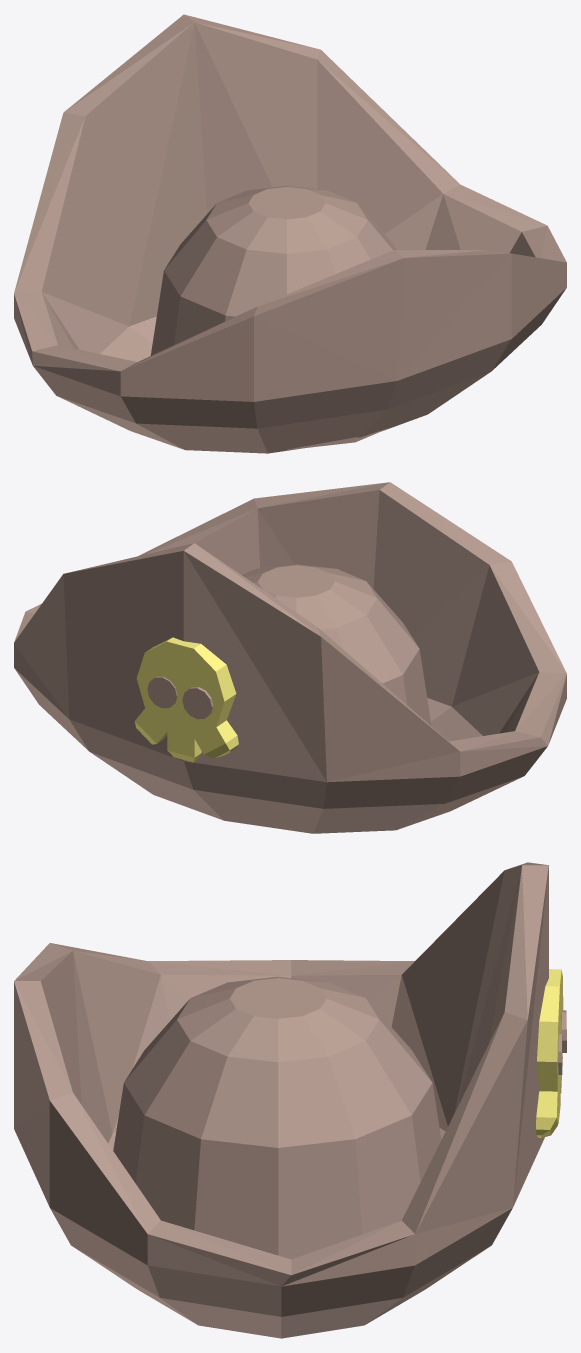
Rendered from Pirate Hat by Minh Nguyen Tri - 6sSj3ws927b.glb.
3 renders of one model, top to bottom at view 1: azimuth 30°, elevation 25°; view 2: azimuth 150°, elevation 25°; view 3: azimuth 270°, elevation 25°, orthographic. The views are drawn at different scales.
Parts seen in each view (by area): view 1: mesh1512100864; view 2: mesh1512100864; view 3: mesh1512100864.
Boxes of the visible parts, x1,y1,x2,y2 form: mesh1512100864: (14, 14, 566, 453); mesh1512100864: (14, 482, 566, 833); mesh1512100864: (14, 862, 566, 1338).
Size of the model in its own units: 0.81 by 0.4842 by 0.5965.
